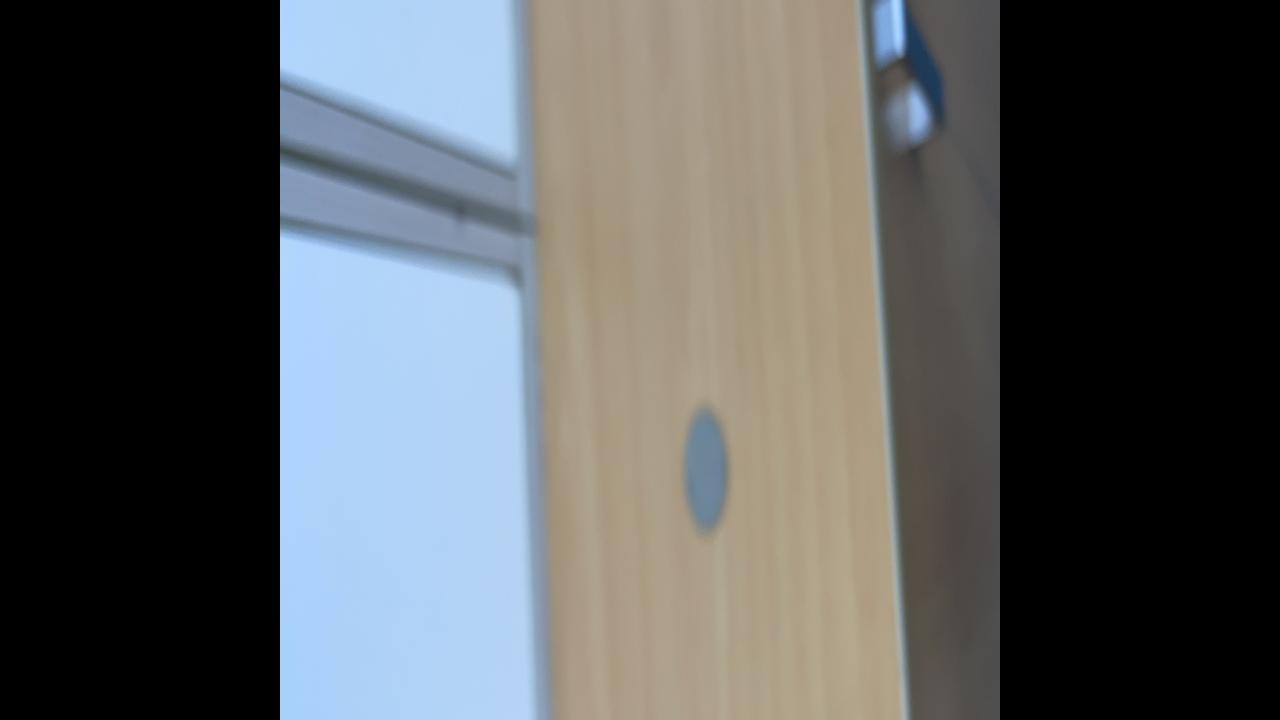coin: (680, 404, 730, 540)
